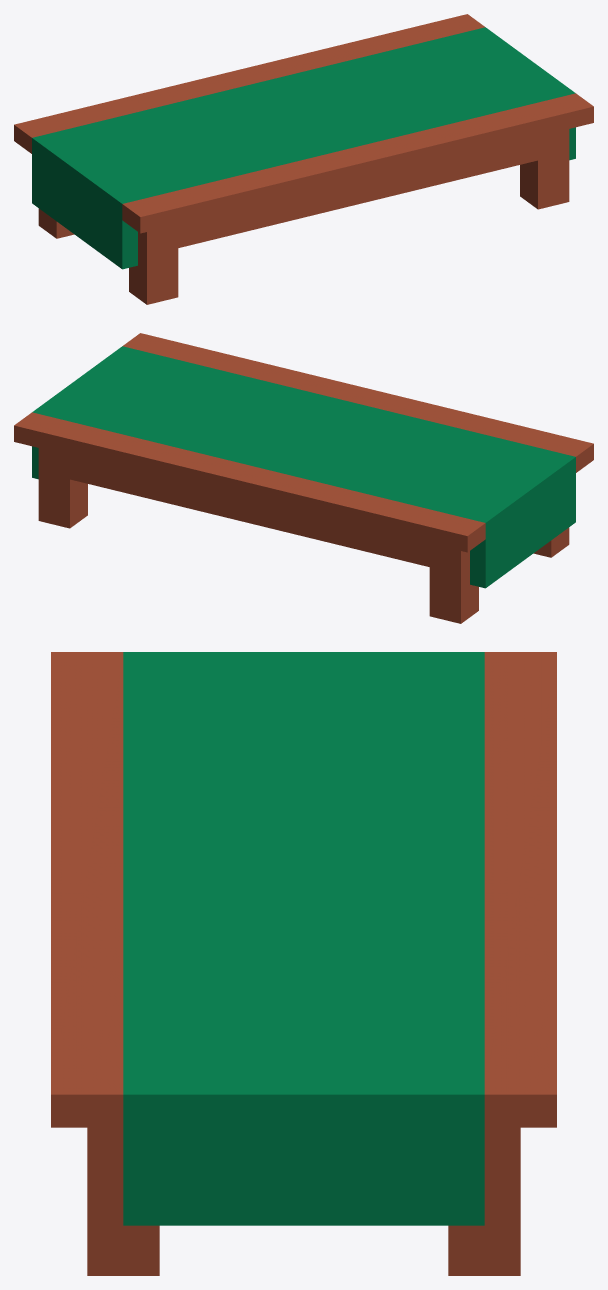
File: large_table_a_green.obj
3 renders of one model, top to bottom at view 1: azimuth 30°, elevation 25°; view 2: azimuth 150°, elevation 25°; view 3: azimuth 270°, elevation 25°, orthographic. The views are drawn at different scales.
Size of the model in its own units: 2.9 by 0.6 by 1.4.
Materials: 1 (1 with a texture image).
